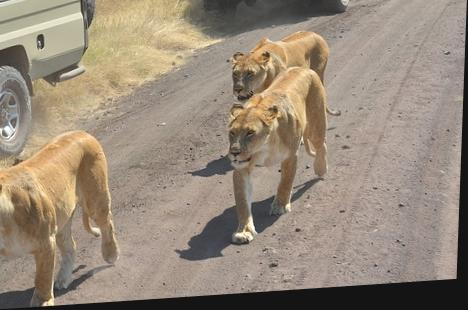lioness: (0, 126, 126, 310), (227, 70, 340, 251), (230, 28, 329, 125)
